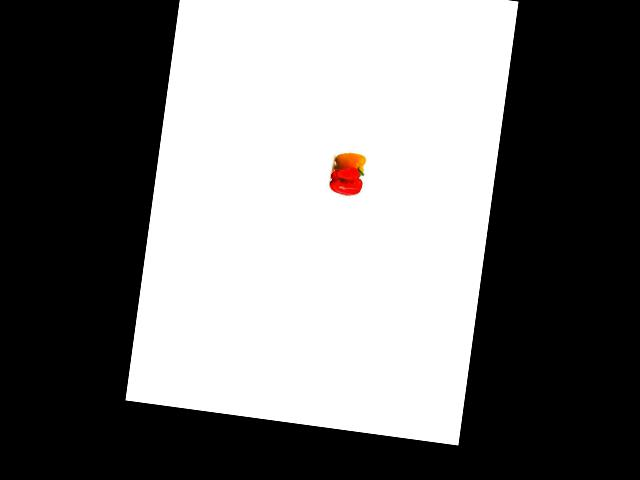bell_pepper: (331, 150, 365, 179)
